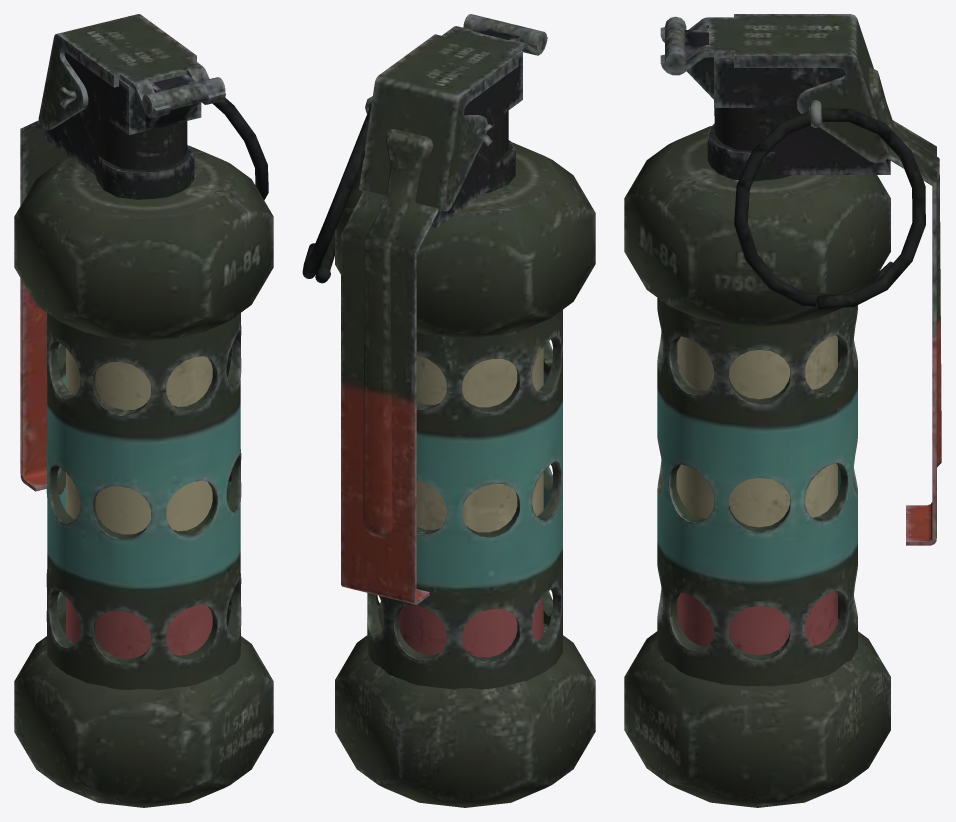
File: nade_flash.2e1e136d76.glb
The picture shows the model from 3 angles, left to right: view 1: azimuth 30°, elevation 25°; view 2: azimuth 150°, elevation 25°; view 3: azimuth 270°, elevation 25°; orthographic projection. The views are drawn at different scales.
Visible parts, largest first — view 1: Lids_low.001, OuterCylinder_low.001, SafetyLever_low.001, InnerCylinder_low.001, FuseBody_low.001, Cylinder_low.001, Pin_low.001; view 2: Lids_low.001, OuterCylinder_low.001, SafetyLever_low.001, SafetyLeverBump_low.001, InnerCylinder_low.001, FuseBody_low.001, Pin_low.001, Cylinder_low.001; view 3: Lids_low.001, OuterCylinder_low.001, SafetyLever_low.001, InnerCylinder_low.001, FuseBody_low.001, Pin_low.001, SafetyLeverBump_low.001, Cylinder_low.001.
Boxes of the visible parts, x1=… form: Lids_low.001: x1=14, y1=145, x2=273, y2=807; OuterCylinder_low.001: x1=46, y1=313, x2=241, y2=690; SafetyLever_low.001: x1=20, y1=14, x2=225, y2=491; InnerCylinder_low.001: x1=66, y1=348, x2=212, y2=658; FuseBody_low.001: x1=43, y1=52, x2=201, y2=199; Cylinder_low.001: x1=142, y1=77, x2=225, y2=114; Pin_low.001: x1=212, y1=97, x2=268, y2=200; Lids_low.001: x1=335, y1=142, x2=595, y2=807; OuterCylinder_low.001: x1=367, y1=310, x2=562, y2=689; SafetyLever_low.001: x1=341, y1=26, x2=547, y2=604; SafetyLeverBump_low.001: x1=363, y1=129, x2=432, y2=537; InnerCylinder_low.001: x1=398, y1=347, x2=543, y2=657; FuseBody_low.001: x1=430, y1=27, x2=522, y2=228; Pin_low.001: x1=302, y1=104, x2=371, y2=283; Cylinder_low.001: x1=463, y1=14, x2=547, y2=51; Lids_low.001: x1=624, y1=126, x2=890, y2=807; OuterCylinder_low.001: x1=657, y1=298, x2=857, y2=686; SafetyLever_low.001: x1=660, y1=14, x2=936, y2=545; InnerCylinder_low.001: x1=677, y1=335, x2=837, y2=655; FuseBody_low.001: x1=684, y1=30, x2=890, y2=181; Pin_low.001: x1=734, y1=108, x2=925, y2=309; SafetyLeverBump_low.001: x1=869, y1=67, x2=941, y2=467; Cylinder_low.001: x1=665, y1=16, x2=686, y2=72.
Bounding box in the file's own units: 190 × 581 × 228.
Materials: 1 (1 with a texture image).
